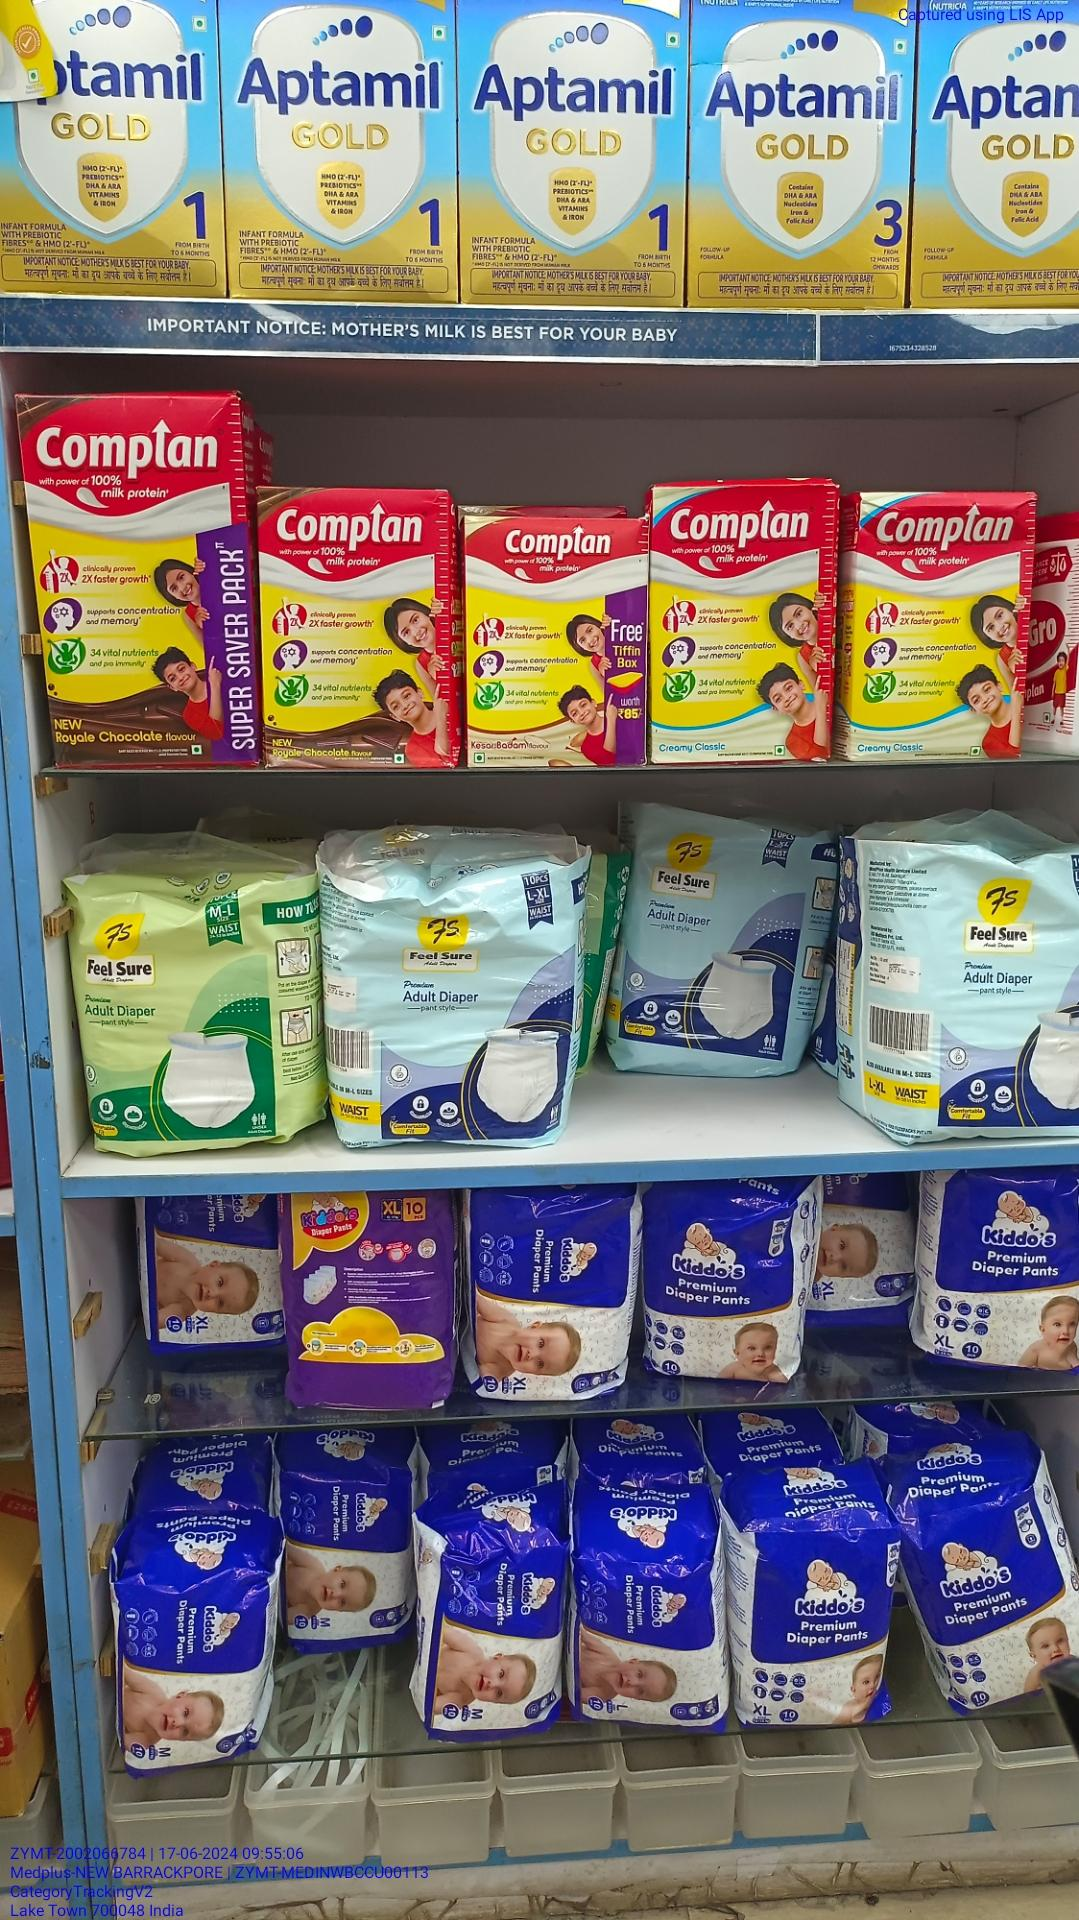COMPLAN_CHOCOLATE_1_KG_PACK: (25, 386, 253, 765)
COMPLAN_CHOCOLATE_500_GMS_PACK: (260, 485, 459, 770)
COMPLAN_CREAMY_CLASSIC_500_G_PACK: (654, 488, 831, 760), (853, 495, 1025, 758)
COMPLAN_KESAR_BADAM_500_GMS_PACK: (472, 518, 644, 762)
